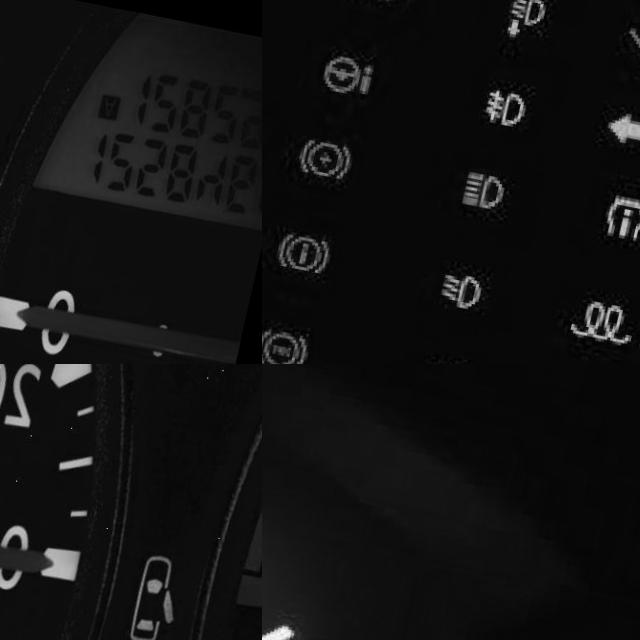Electronic Power Steering: (326, 42, 389, 93)
